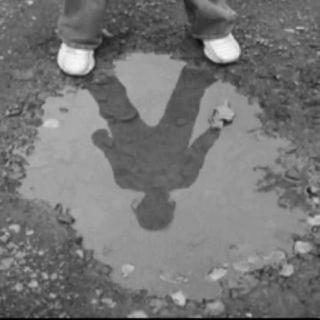other: (36, 46, 268, 168), (94, 252, 300, 304)
